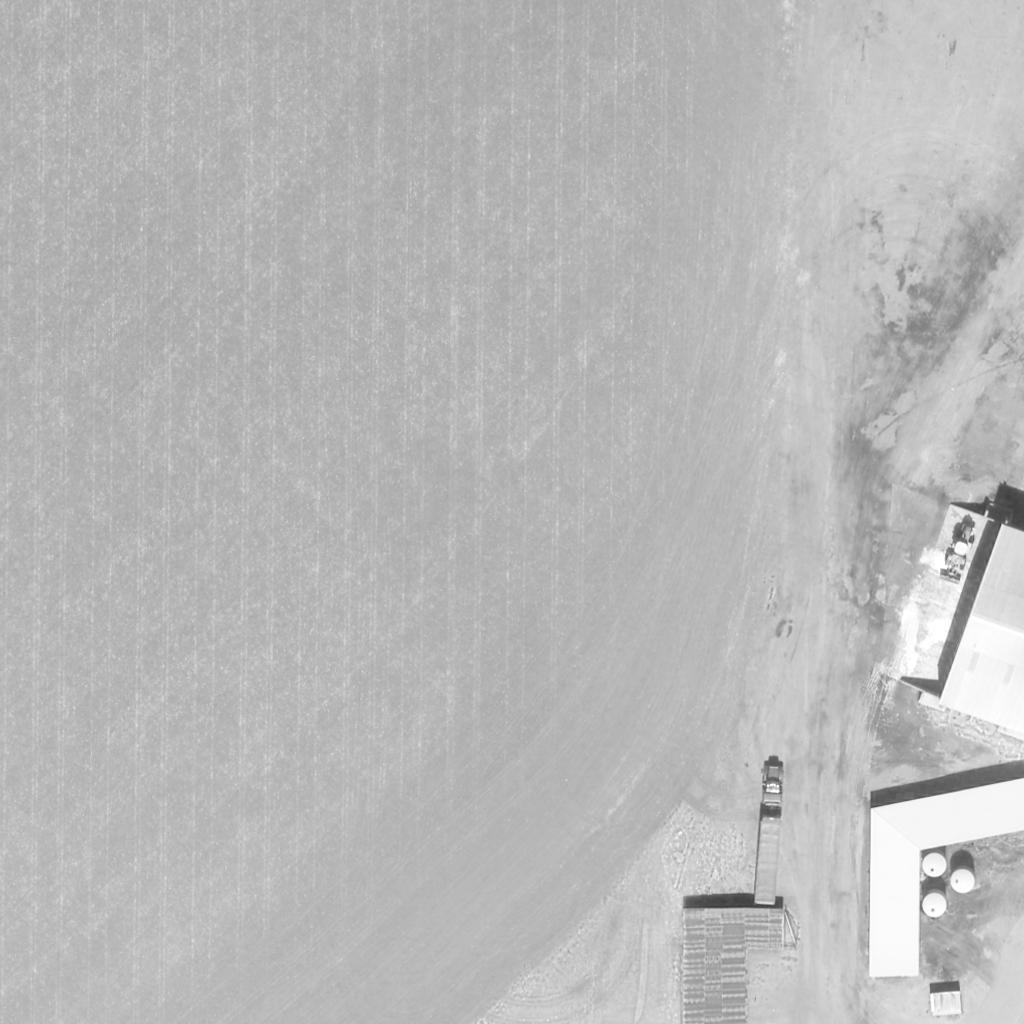vehicle: (753, 760, 785, 910), (944, 522, 978, 574)
